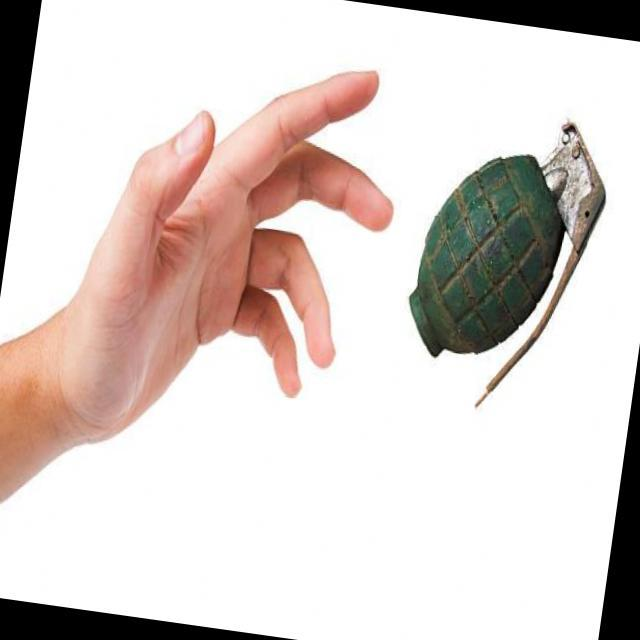grenade: (384, 102, 615, 433)
